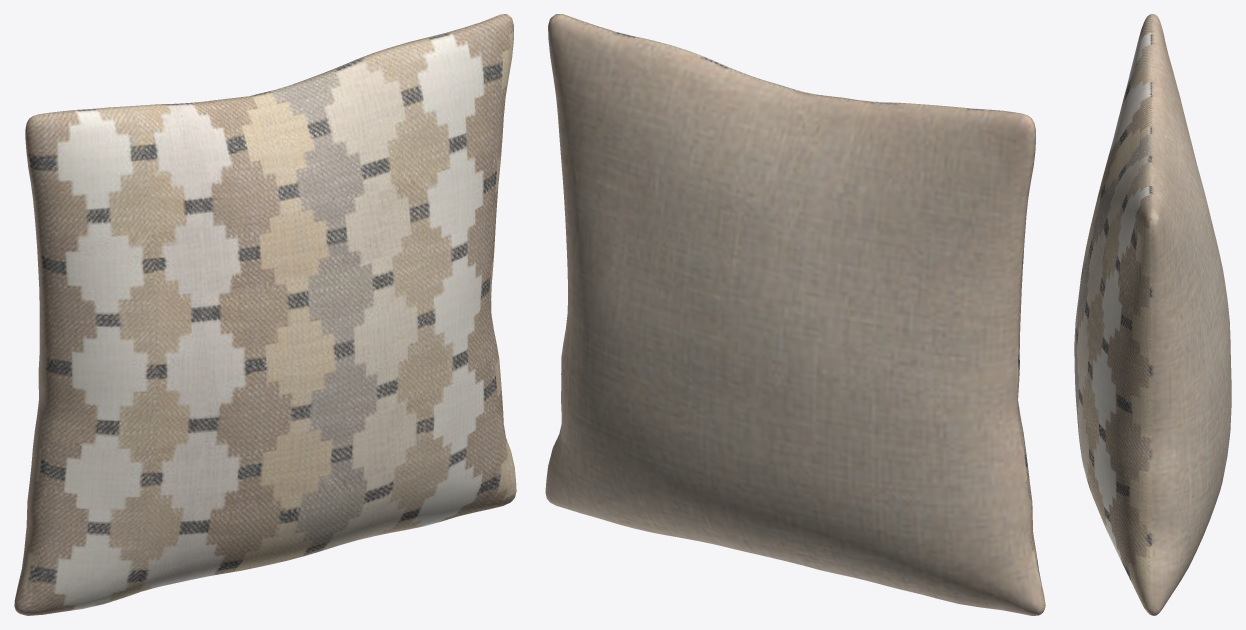
File: B07BMTXL6H.glb
The picture shows the model from 3 angles, left to right: view 1: azimuth 30°, elevation 25°; view 2: azimuth 150°, elevation 25°; view 3: azimuth 270°, elevation 25°; orthographic projection. The views are drawn at different scales.
Visible parts, largest first — view 1: RootNode; view 2: RootNode; view 3: RootNode.
Boxes of the visible parts, box(x1,y1,x2,y2) form: RootNode: box(14, 14, 516, 615); RootNode: box(545, 14, 1045, 615); RootNode: box(1074, 14, 1231, 615).
Bounding box in the file's own units: 0.5783 × 0.5578 × 0.1923.
1 material, 1 textured.
